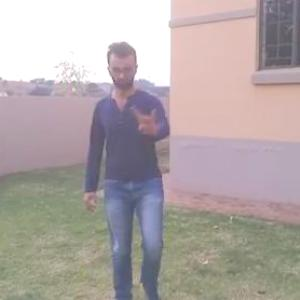takeoff-hand: (130, 98, 164, 139)
